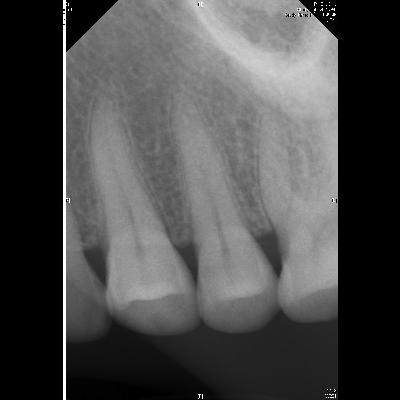tooth: (84, 88, 202, 338), (166, 88, 282, 336)
